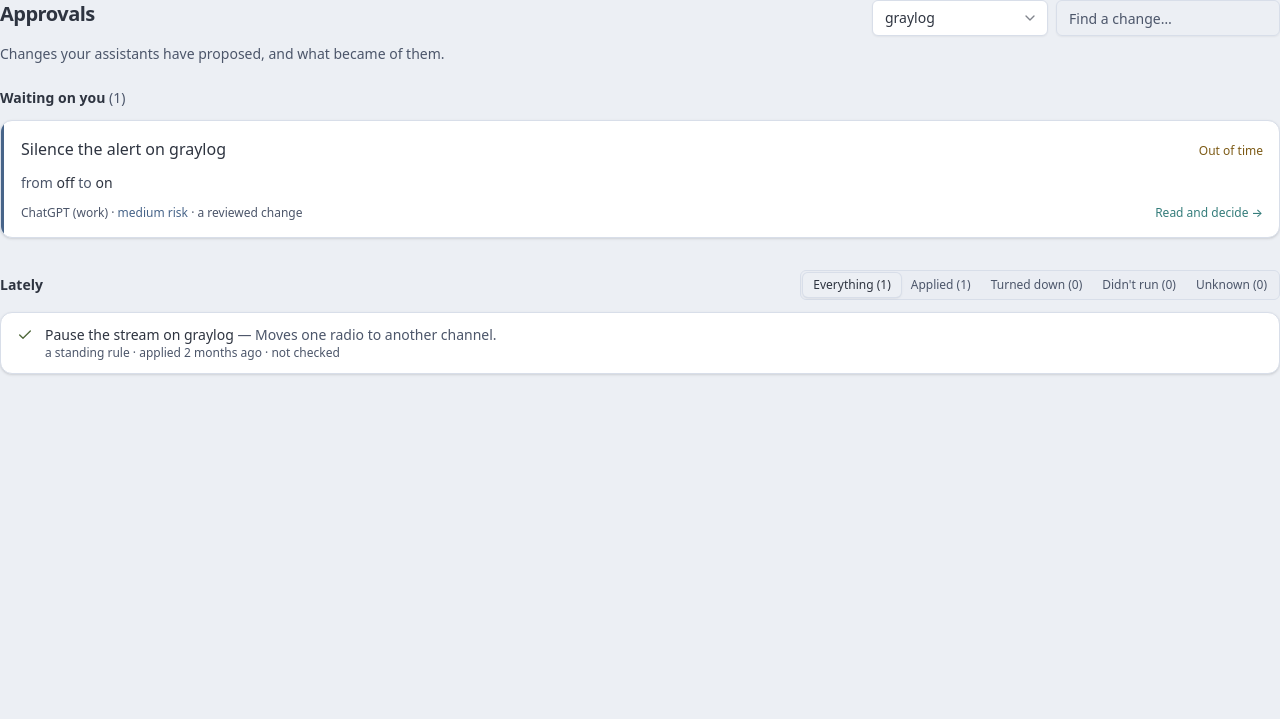
Scenario: cutting the list › drops the legacy plugin when the system select clears the new one
This screenshot has width=1280, height=719.
Check: the element "Lately" is shown, box [0,270,1279,374]
Step 1. Select "Every system" in the dropdown named "System" → (960, 18), box [872,0,1048,36]
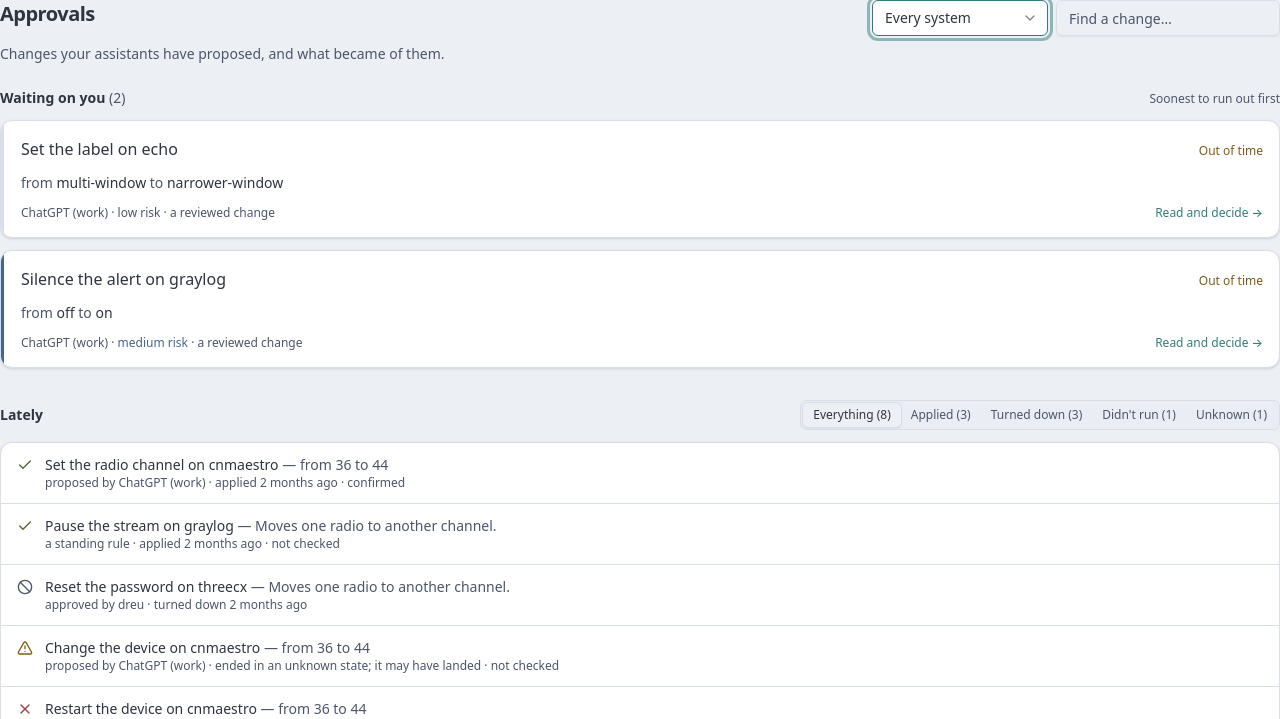
Check: the heading "Set the label on echo" is shown, box [21,137,178,161]
